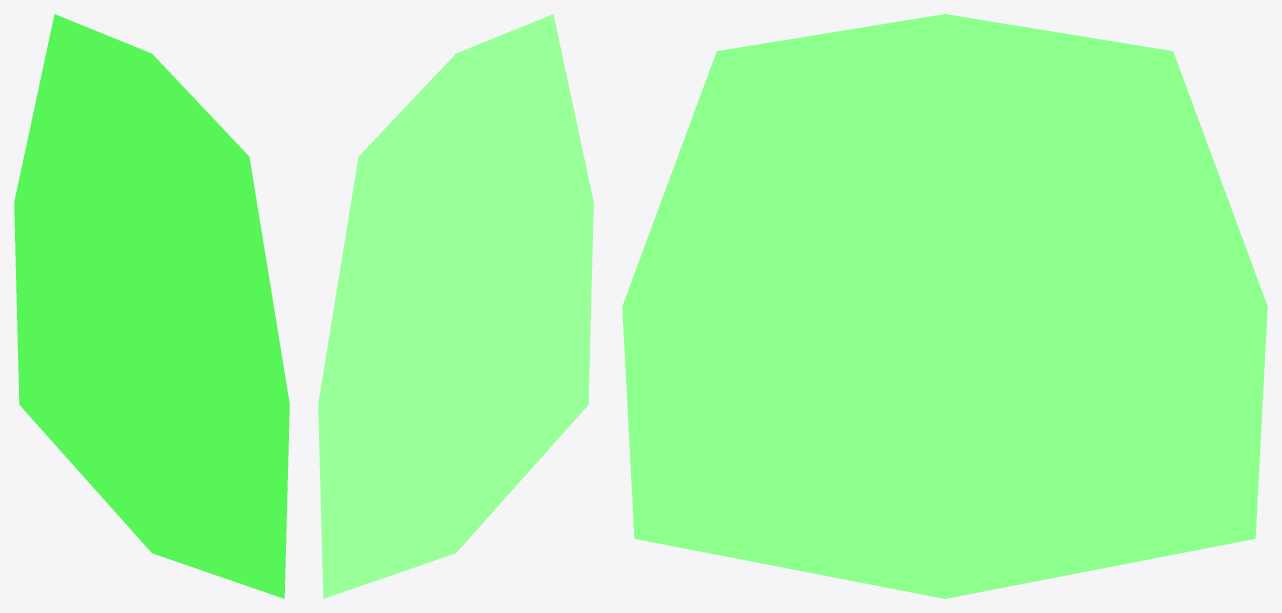
Rendered from statueEarthGlow.glb.
The picture shows the model from 3 angles, left to right: view 1: azimuth 30°, elevation 25°; view 2: azimuth 150°, elevation 25°; view 3: azimuth 270°, elevation 25°; orthographic projection. The views are drawn at different scales.
Parts seen in each view (by area): view 1: earthRockGlow; view 2: earthRockGlow; view 3: earthRockGlow.
Boxes of the visible parts, x1,y1,x2,y2 form: earthRockGlow: (14, 14, 289, 598); earthRockGlow: (318, 14, 593, 598); earthRockGlow: (622, 14, 1267, 598).
Bounding box in the file's own units: 5.96e-08 × 0.9597 × 0.9597.
